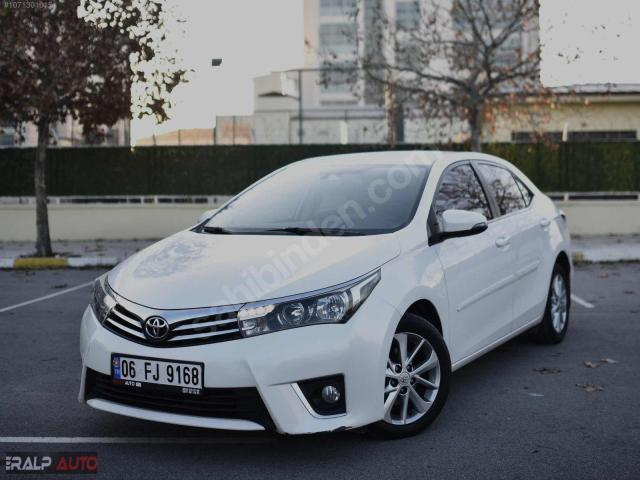plaka: (112, 355, 203, 393)
